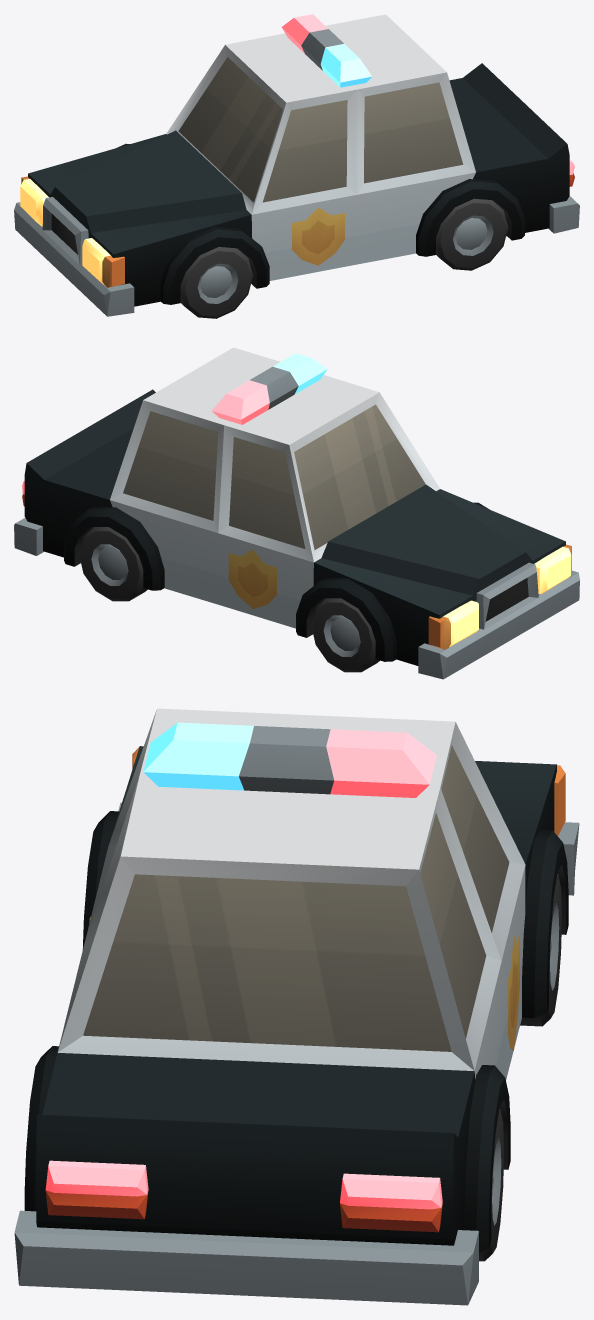
File: car_04.glb
3 renders of one model, top to bottom at view 1: azimuth 30°, elevation 25°; view 2: azimuth 150°, elevation 25°; view 3: azimuth 270°, elevation 25°, orthographic. The views are drawn at different scales.
Visible parts, largest first — view 1: car_04, car_police_wheel_front_left, car_police_wheel_rear_left; view 2: car_04, car_police_wheel_front_right, car_police_wheel_rear_right; view 3: car_04, car_police_wheel_front_right, car_police_wheel_rear_right.
Boxes of the visible parts, x1,y1,x2,y2 form: car_04: [14, 14, 579, 316]; car_police_wheel_front_left: [180, 247, 252, 318]; car_police_wheel_rear_left: [436, 198, 508, 270]; car_04: [14, 347, 579, 679]; car_police_wheel_front_right: [311, 598, 379, 672]; car_police_wheel_rear_right: [79, 527, 147, 601]; car_04: [14, 708, 579, 1305]; car_police_wheel_front_right: [520, 874, 561, 1026]; car_police_wheel_rear_right: [479, 1109, 504, 1261].
Size of the model in its own units: 0.9714 by 0.4126 by 0.5069.
Materials: 4 (1 with a texture image).
